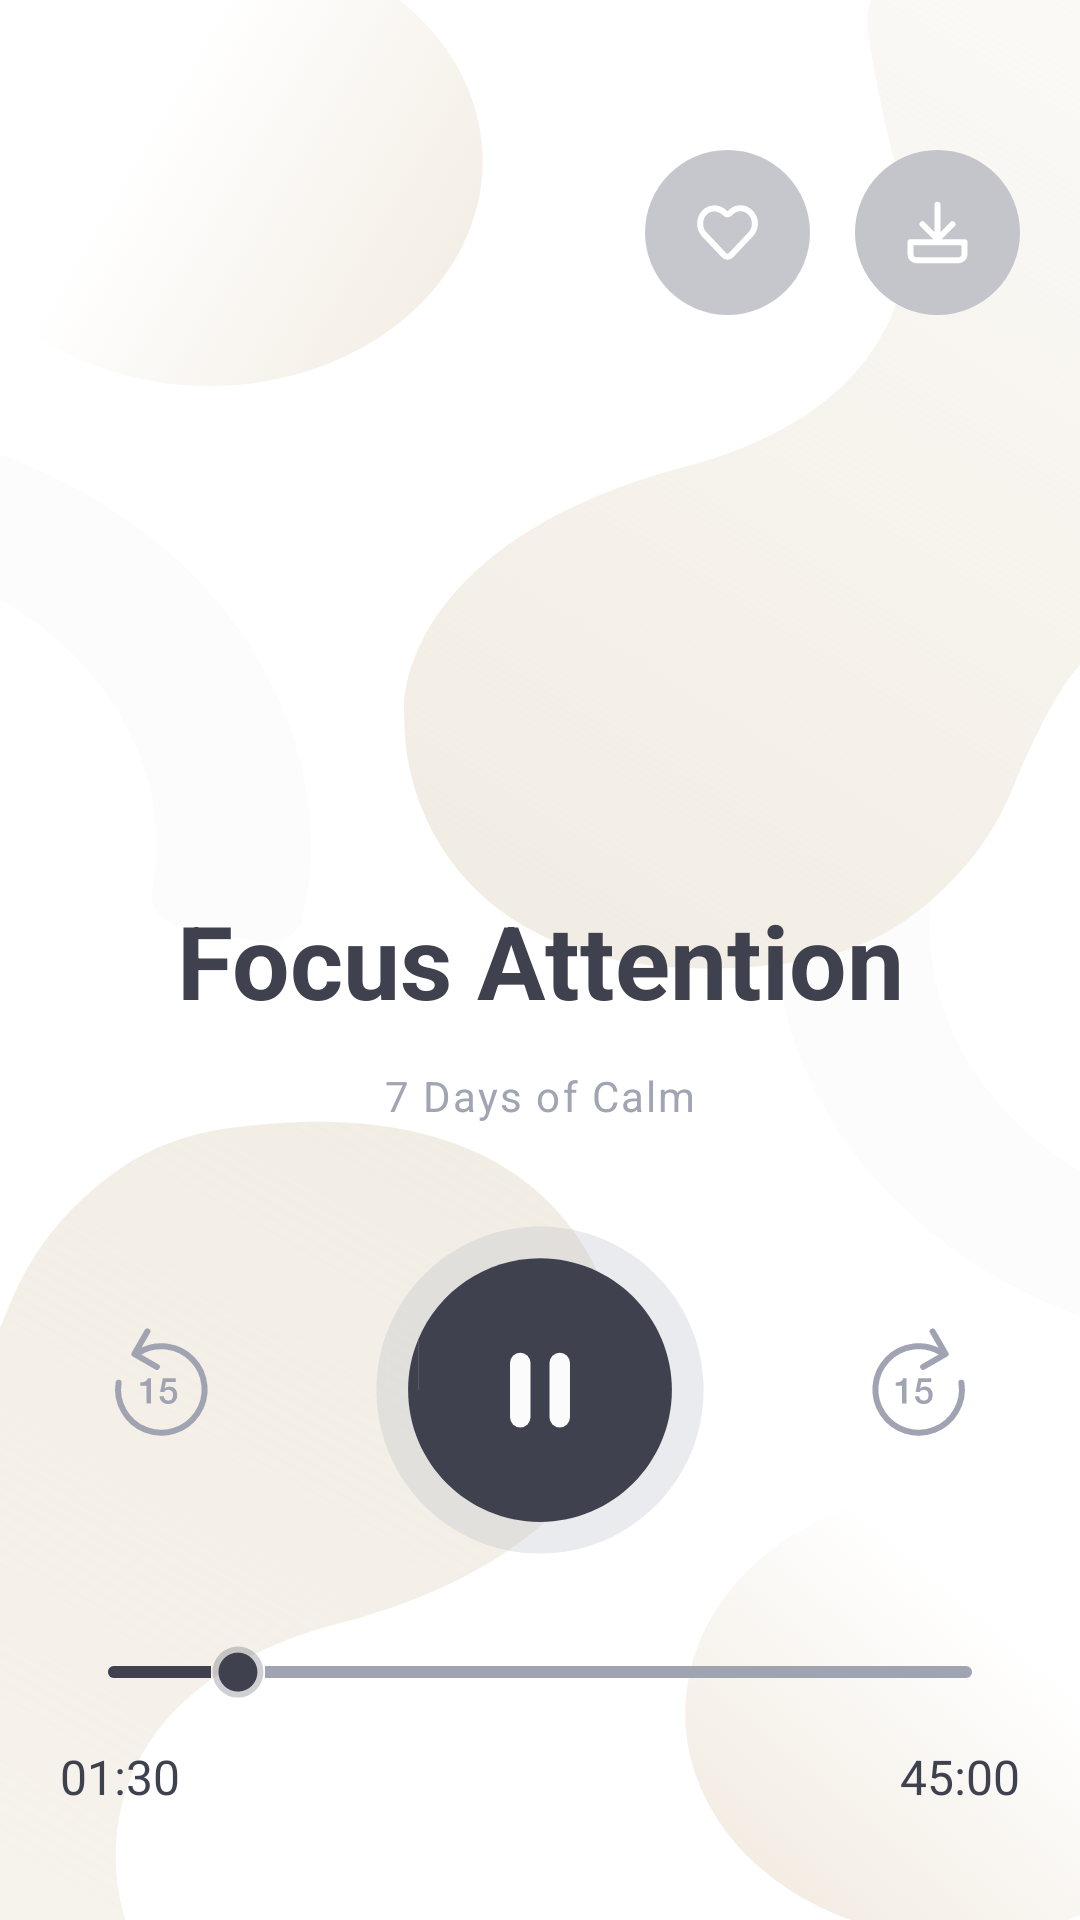

Point at icon controls on the screen. Image size 1080 × 1920, points as point (x, y).
download: point (937, 232)
like: point (727, 232)
pause: point (523, 1388)
rewind backward: point (161, 1382)
rewind forward: point (918, 1382)
